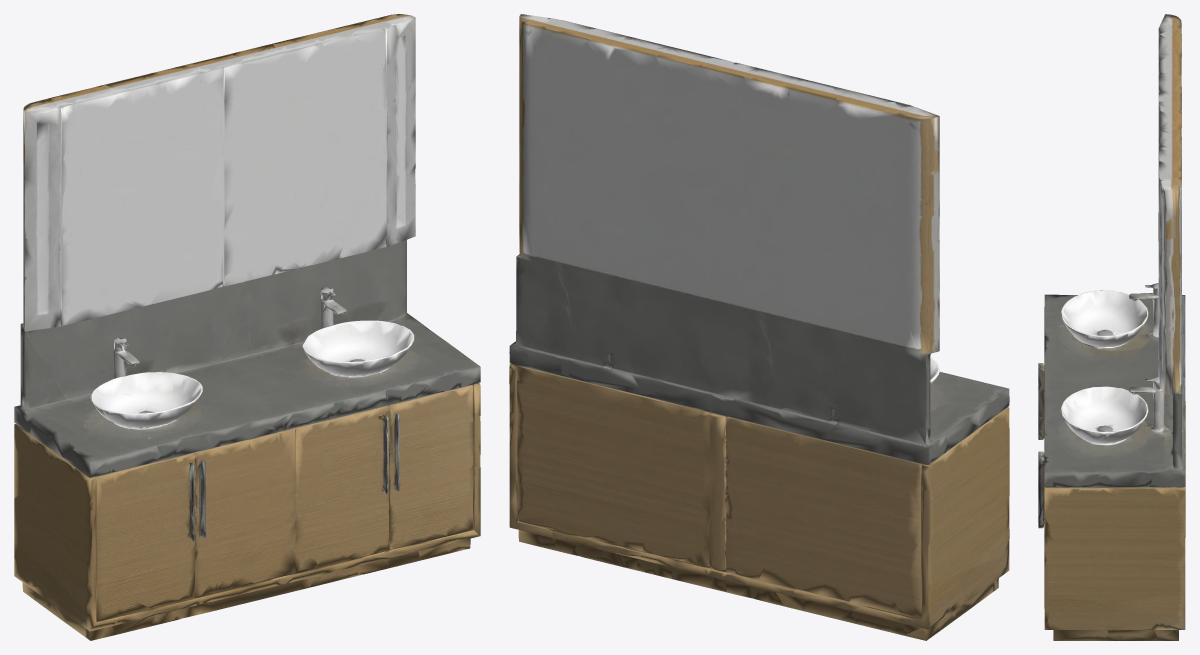
Rendered from Bathroom Vanity Double.glb.
3 renders of one model, left to right at view 1: azimuth 30°, elevation 25°; view 2: azimuth 150°, elevation 25°; view 3: azimuth 270°, elevation 25°, orthographic. The views are drawn at different scales.
Parts seen in each view (by area): view 1: Mesh_0.001; view 2: Mesh_0.001; view 3: Mesh_0.001.
Boxes of the visible parts, left/top/right/bottom form: Mesh_0.001: left=14, top=14, right=480, bottom=640; Mesh_0.001: left=509, top=14, right=1009, bottom=640; Mesh_0.001: left=1038, top=14, right=1185, bottom=640.
Size of the model in its own units: 1.26 by 1.5 by 0.4435.
Materials: 1 (1 with a texture image).
